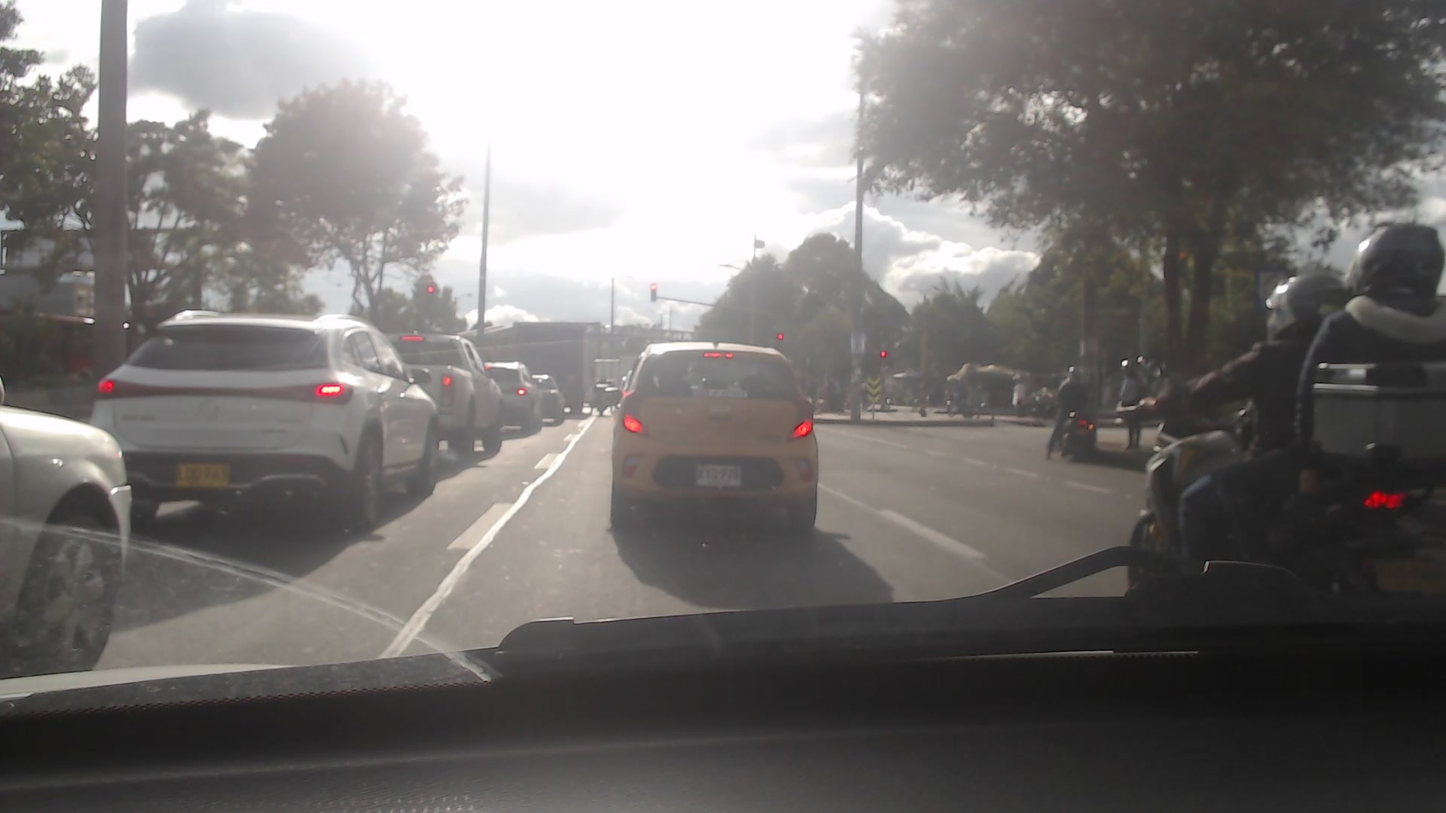car: (93, 311, 446, 520), (604, 333, 819, 529), (360, 329, 503, 459), (481, 360, 548, 428)
motorcycle: (1060, 408, 1103, 464)
person: (1142, 270, 1353, 544), (1313, 228, 1445, 539), (1056, 363, 1101, 462), (1118, 353, 1147, 456)
